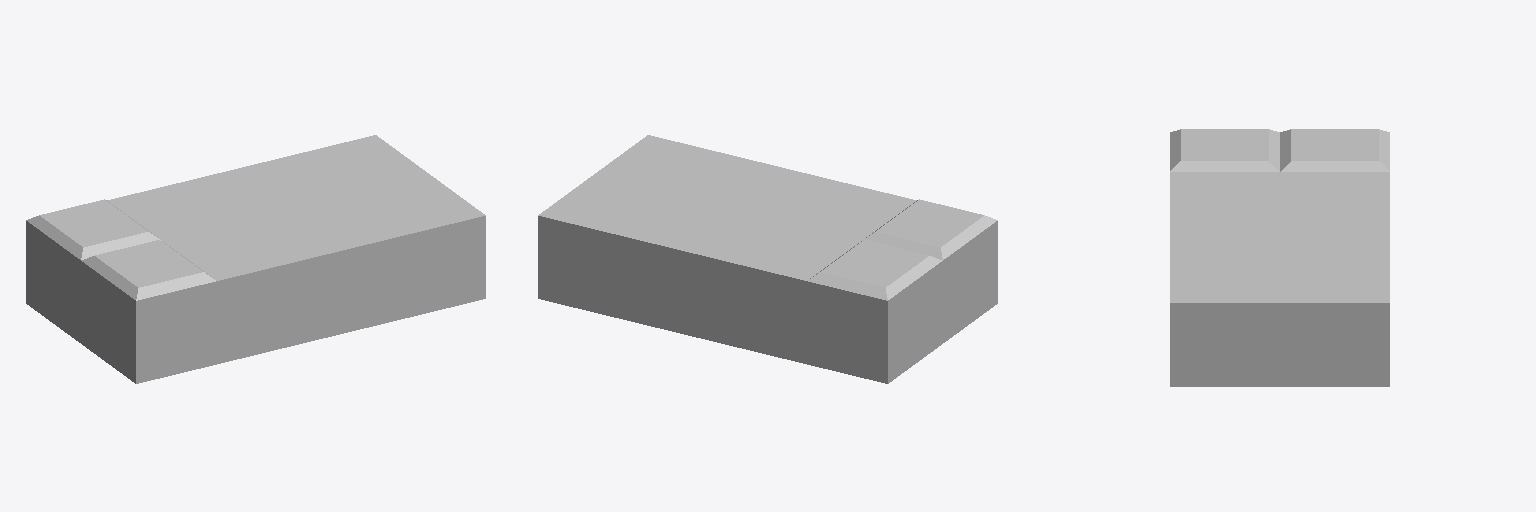
The model's file is bed.obj.
The picture shows the model from 3 angles: view 1: azimuth 30°, elevation 25°; view 2: azimuth 150°, elevation 25°; view 3: azimuth 270°, elevation 25°; orthographic projection.
Parts seen in each view (by area): view 1: bed_Cube.007; view 2: bed_Cube.007; view 3: bed_Cube.007.
Part boxes in pixels (bbox=[...]): bed_Cube.007: bbox=[26, 135, 485, 383]; bed_Cube.007: bbox=[538, 135, 997, 383]; bed_Cube.007: bbox=[1170, 129, 1389, 386].
Bounding box in the file's own units: 3.3 × 0.8142 × 1.8.